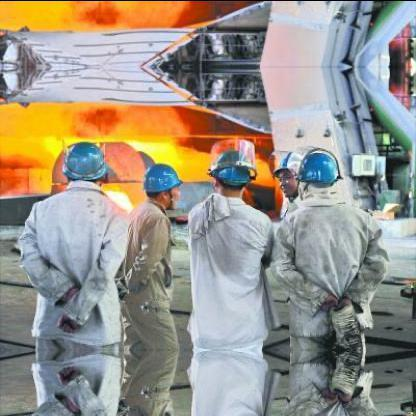Helmet: (294, 146, 341, 206), (56, 142, 106, 186), (142, 156, 180, 206), (209, 150, 250, 196), (270, 150, 304, 192)
